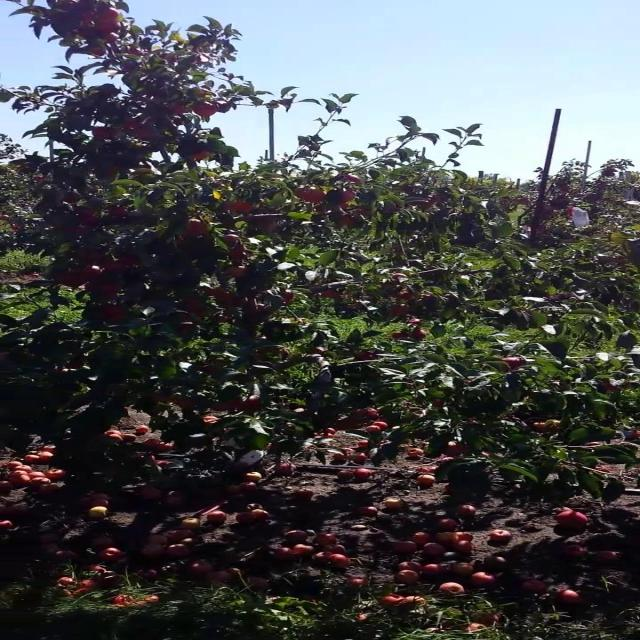apple: (77, 248, 107, 262), (56, 272, 84, 286), (191, 104, 219, 117), (604, 380, 631, 392), (298, 192, 325, 203), (298, 188, 322, 200), (255, 220, 279, 232), (99, 8, 121, 21), (77, 24, 96, 38), (92, 128, 114, 140), (134, 128, 156, 140), (99, 20, 121, 32), (525, 224, 548, 235), (134, 164, 155, 176), (191, 220, 210, 233), (504, 360, 526, 371), (106, 260, 128, 271), (234, 296, 256, 307), (106, 308, 126, 320), (49, 12, 73, 22), (191, 88, 212, 99), (100, 284, 121, 295), (412, 200, 434, 210), (227, 296, 247, 307), (220, 296, 240, 307), (205, 288, 226, 298), (84, 268, 103, 279), (84, 252, 107, 261), (262, 220, 279, 232), (63, 192, 80, 204), (163, 52, 180, 64), (227, 268, 249, 277), (170, 104, 187, 115), (77, 216, 100, 224), (212, 292, 235, 300), (120, 256, 140, 265), (355, 352, 375, 361), (234, 248, 249, 260), (412, 328, 427, 340), (99, 88, 119, 97), (234, 204, 256, 212), (191, 152, 212, 160), (77, 208, 98, 216), (127, 48, 148, 56), (186, 296, 201, 307), (340, 216, 356, 226), (390, 308, 409, 316), (390, 332, 409, 340), (284, 292, 297, 303), (179, 396, 192, 407), (177, 400, 194, 408), (355, 208, 372, 216), (70, 360, 85, 369), (390, 204, 405, 213), (191, 56, 206, 65), (70, 228, 89, 235), (340, 192, 356, 200), (127, 120, 142, 128), (113, 208, 128, 216), (120, 64, 135, 72), (348, 176, 363, 184), (220, 104, 235, 112), (92, 48, 107, 56), (433, 196, 448, 204), (220, 204, 235, 212), (177, 324, 194, 331), (212, 404, 229, 411), (250, 396, 263, 405), (404, 384, 427, 389), (227, 236, 242, 243), (106, 36, 121, 43), (397, 292, 412, 299), (312, 348, 327, 355), (234, 400, 247, 408), (326, 292, 340, 299), (156, 396, 169, 403), (113, 164, 123, 172), (184, 232, 197, 237), (340, 204, 350, 210), (404, 188, 414, 194), (413, 320, 423, 325)
